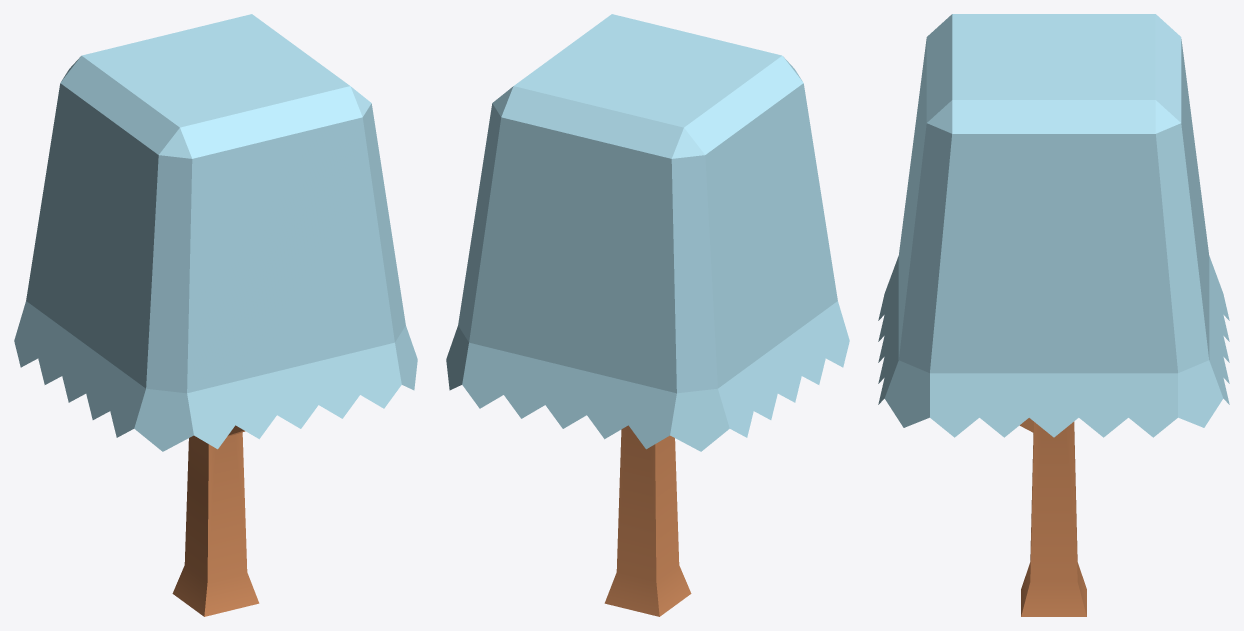
File: treeSnow.glb
3 views of the same model, side by side, from view 1: azimuth 30°, elevation 25°; view 2: azimuth 150°, elevation 25°; view 3: azimuth 270°, elevation 25° (orthographic). The views are drawn at different scales.
Visible parts, largest first — view 1: treeSnow; view 2: treeSnow; view 3: treeSnow.
Part boxes in pixels (x1,y1,x2,y2): treeSnow: (14,14,417,616); treeSnow: (446,14,849,616); treeSnow: (878,14,1229,616).
Bounding box in the file's own units: 1.13 × 1.94 × 1.13.
